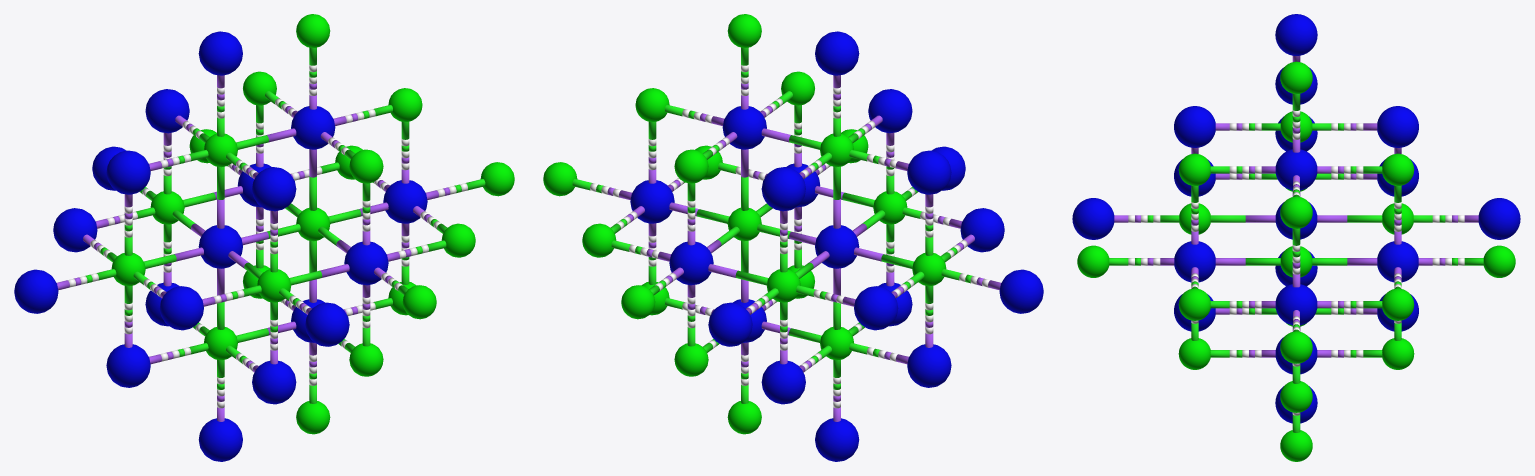
Rendered from 3D_Salt.fbx.
The picture shows the model from 3 angles, left to right: view 1: azimuth 30°, elevation 25°; view 2: azimuth 150°, elevation 25°; view 3: azimuth 270°, elevation 25°; orthographic projection. The views are drawn at different scales.
Visible parts, largest first — view 1: Shape_IndexedFaceSet; view 2: Shape_IndexedFaceSet; view 3: Shape_IndexedFaceSet.
Boxes of the visible parts, bbox=[...] form: Shape_IndexedFaceSet: bbox=[14, 14, 514, 461]; Shape_IndexedFaceSet: bbox=[543, 14, 1043, 461]; Shape_IndexedFaceSet: bbox=[1072, 14, 1520, 461].
Bounding box in the file's own units: 14638 × 12024 × 12042.
